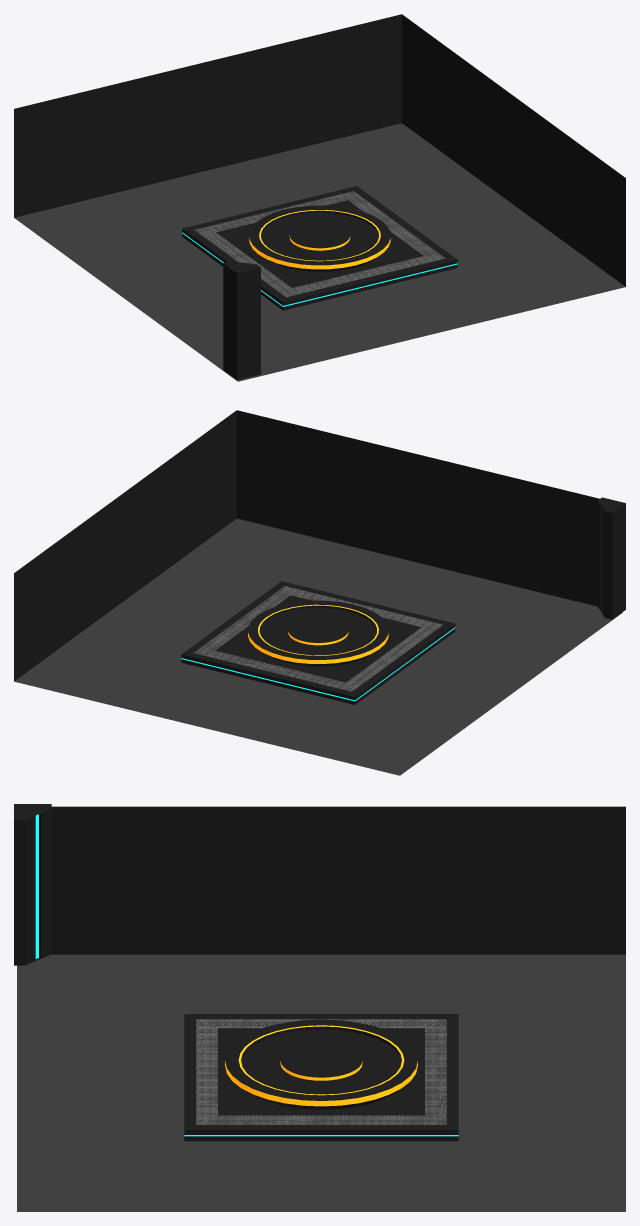
File: mapa.glb
3 views of the same model, one above another, from view 1: azimuth 30°, elevation 25°; view 2: azimuth 150°, elevation 25°; view 3: azimuth 270°, elevation 25° (orthographic). The views are drawn at different scales.
Parts seen in each view (by area): view 1: Cube.002; view 2: Cube.002; view 3: Cube.002.
Boxes of the visible parts, bbox=[...] form: Cube.002: bbox=[14, 14, 625, 381]; Cube.002: bbox=[14, 410, 625, 775]; Cube.002: bbox=[14, 804, 625, 1211].
Bounding box in the file's own units: 78.68 × 21.16 × 78.65.
5 materials, 1 textured.
